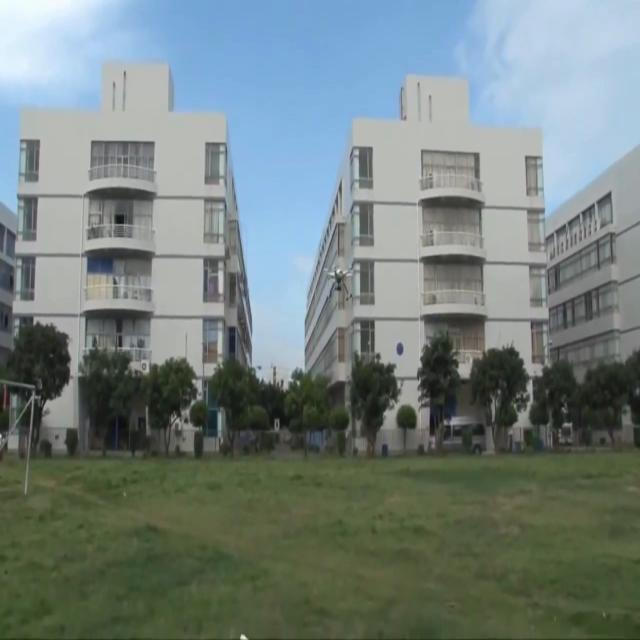drone: (324, 264, 354, 300)
